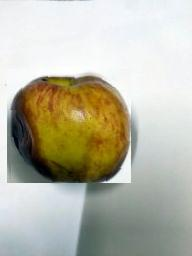Apple Semirotten: (7, 69, 131, 183)
